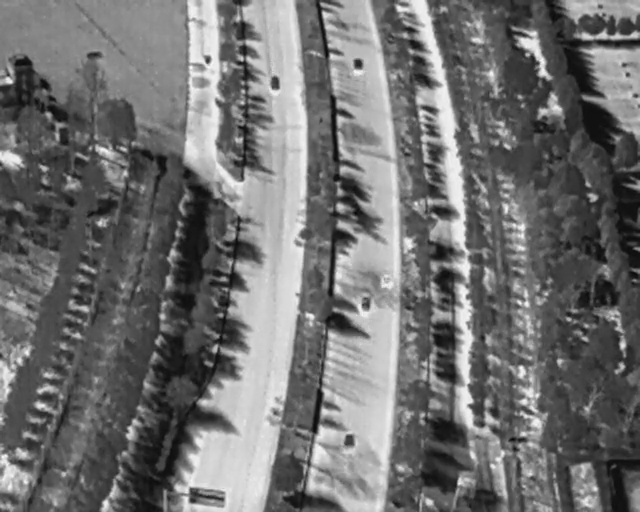Car: (343, 433, 355, 447), (270, 75, 281, 89), (353, 57, 363, 71), (362, 296, 370, 310)
